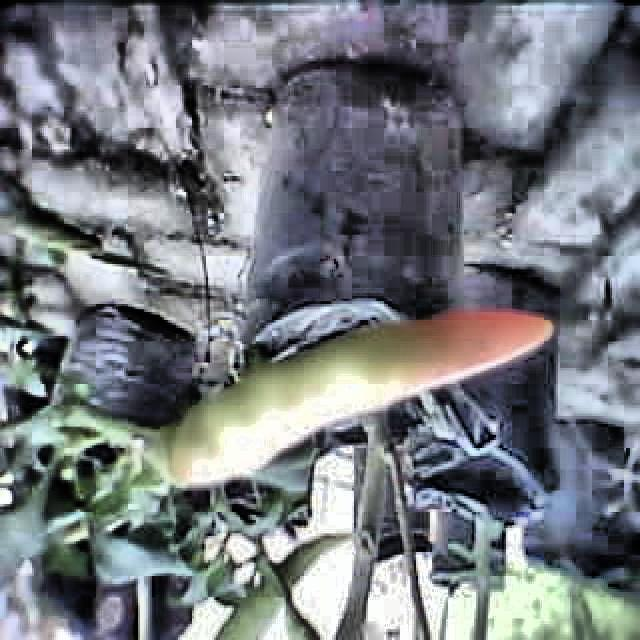Cabai: (172, 310, 563, 489)
